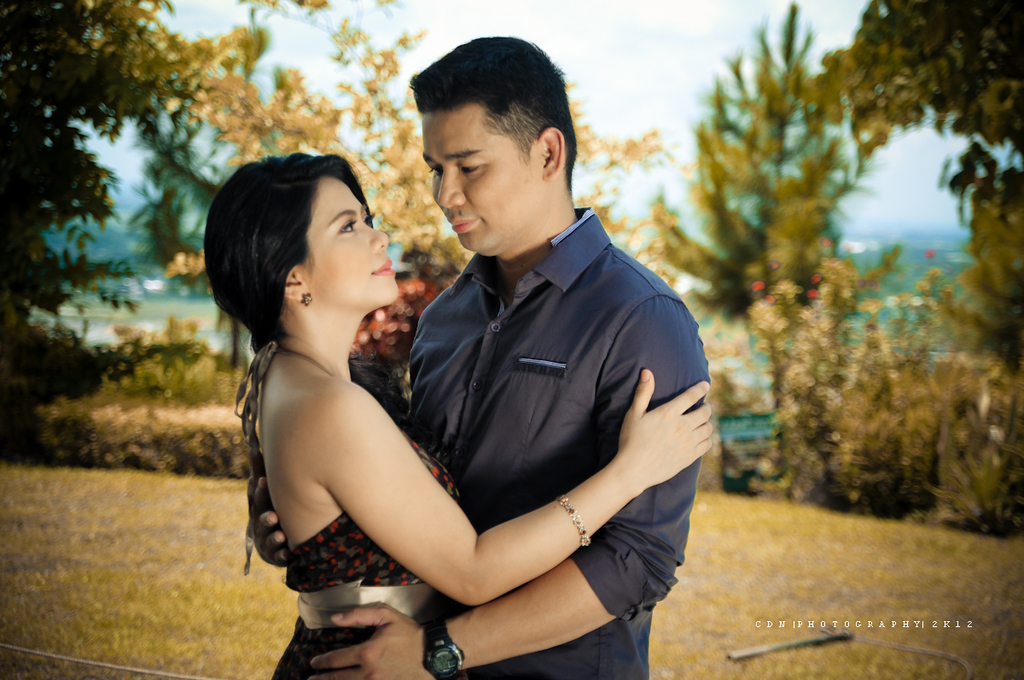Human_hand: (596, 366, 716, 529), (309, 600, 439, 679), (246, 474, 292, 572)
